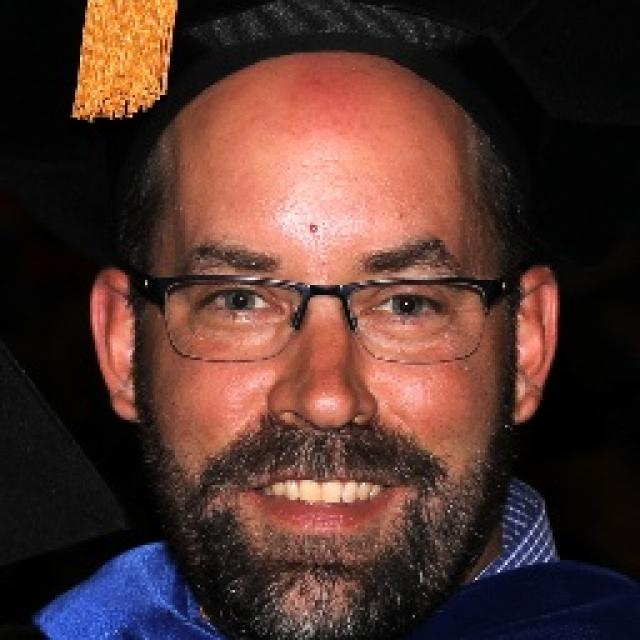earlobe: (89, 268, 145, 423), (506, 266, 558, 425)
